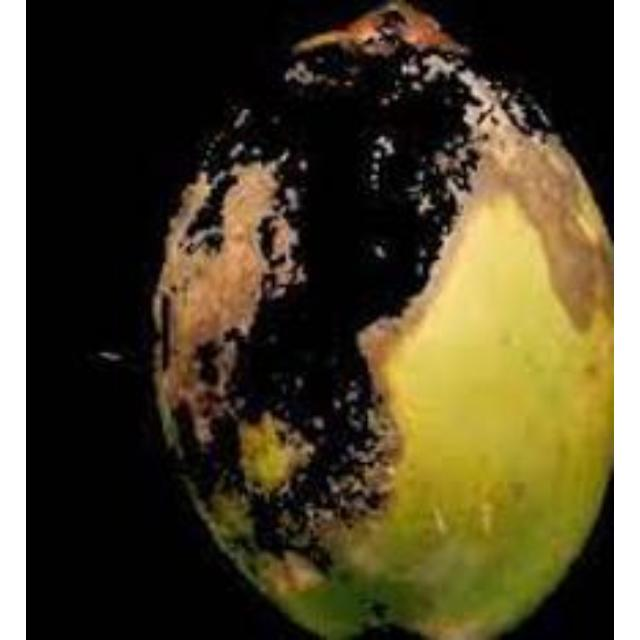damaged: (149, 3, 611, 637)
